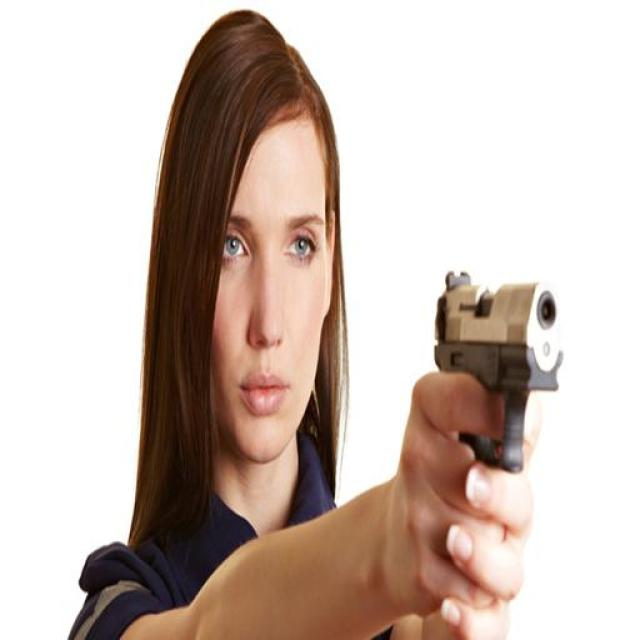pistol: (434, 269, 565, 473)
